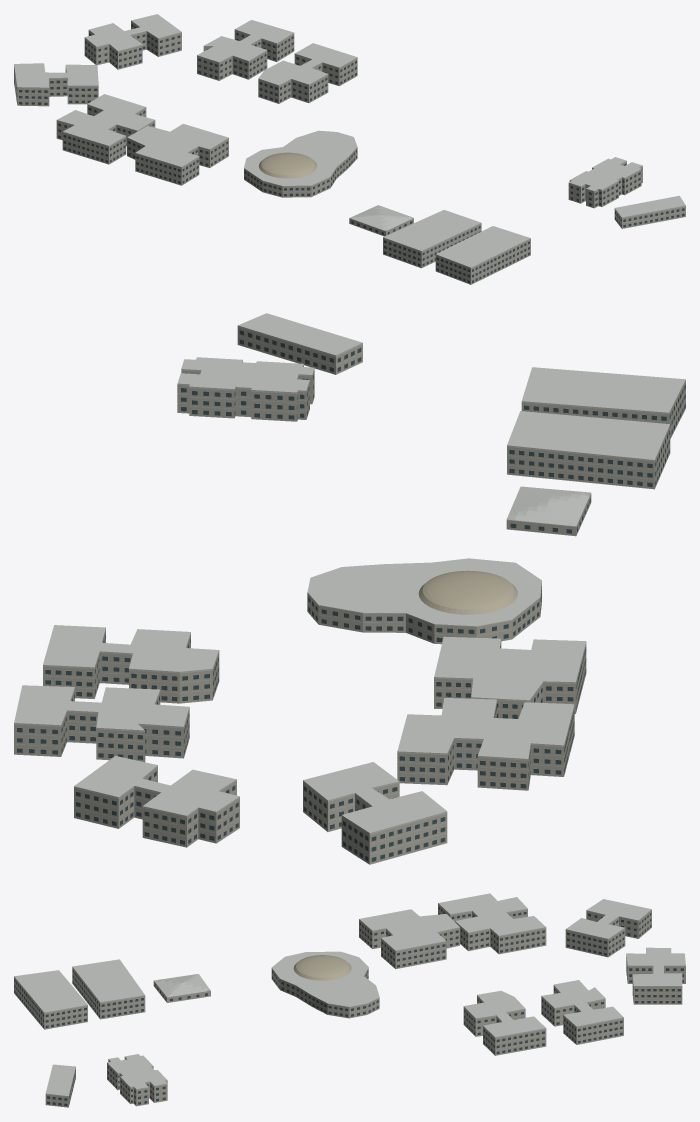
The model's file is UMPSA-Pekan-residential.glb.
The picture shows the model from 3 angles, top to bottom: view 1: azimuth 30°, elevation 25°; view 2: azimuth 150°, elevation 25°; view 3: azimuth 270°, elevation 25°; orthographic projection. The views are drawn at different scales.
Parts seen in each view (by area): view 1: Pusat Aktiviti Pelajar (PAP) UMPSA Pekan - campus exterior, Kolej Kediaman 5 - southwest courtyard block - campus exteri, Kolej Kediaman 5 - west courtyard block - campus exterior, Kolej Kediaman 5 - east courtyard block - campus exterior, Block I KK5 UMPSA Pekan - campus exterior, Block H KK5 UMPSA Pekan - campus exterior, Block B KK5 UMPSA Pekan - campus exterior, Block C KK5 UMPSA Pekan - campus exterior, Kolej Kediaman 5 - northwest courtyard block - campus exteri, Block A KK5 UMPSA Pekan - campus exterior, Kolej Kediaman 5 - southeast residential wing - campus exter, Kolej Kediaman 5 cafeteria - campus exterior; view 2: Pusat Aktiviti Pelajar (PAP) UMPSA Pekan - campus exterior, Kolej Kediaman 5 - west courtyard block - campus exterior, Block I KK5 UMPSA Pekan - campus exterior, Block H KK5 UMPSA Pekan - campus exterior, Block C KK5 UMPSA Pekan - campus exterior, Kolej Kediaman 5 - east courtyard block - campus exterior, Kolej Kediaman 5 - northwest courtyard block - campus exteri, Kolej Kediaman 5 - southwest courtyard block - campus exteri, Block A KK5 UMPSA Pekan - campus exterior, Block B KK5 UMPSA Pekan - campus exterior, Kolej Kediaman 5 - southeast residential wing - campus exter, Kolej Kediaman 5 cafeteria - campus exterior; view 3: Pusat Aktiviti Pelajar (PAP) UMPSA Pekan - campus exterior, Kolej Kediaman 5 - west courtyard block - campus exterior, Kolej Kediaman 5 - southwest courtyard block - campus exteri, Kolej Kediaman 5 - east courtyard block - campus exterior, Block I KK5 UMPSA Pekan - campus exterior, Kolej Kediaman 5 - northwest courtyard block - campus exteri, Block C KK5 UMPSA Pekan - campus exterior, Block B KK5 UMPSA Pekan - campus exterior, Block H KK5 UMPSA Pekan - campus exterior, Block A KK5 UMPSA Pekan - campus exterior, Kolej Kediaman 5 cafeteria - campus exterior, Kolej Kediaman 5 - southeast residential wing - campus exter.
Part boxes in pixels (x1,y1,x2,y2): Pusat Aktiviti Pelajar (PAP) UMPSA Pekan - campus exterior: (244, 130, 357, 197); Kolej Kediaman 5 - southwest courtyard block - campus exteri: (127, 124, 228, 185); Kolej Kediaman 5 - west courtyard block - campus exterior: (56, 94, 155, 164); Kolej Kediaman 5 - east courtyard block - campus exterior: (258, 43, 357, 103); Block I KK5 UMPSA Pekan - campus exterior: (197, 20, 294, 80); Block H KK5 UMPSA Pekan - campus exterior: (84, 14, 181, 69); Block B KK5 UMPSA Pekan - campus exterior: (435, 226, 530, 284); Block C KK5 UMPSA Pekan - campus exterior: (383, 210, 481, 268); Kolej Kediaman 5 - northwest courtyard block - campus exteri: (14, 63, 98, 106); Block A KK5 UMPSA Pekan - campus exterior: (568, 157, 642, 208); Kolej Kediaman 5 - southeast residential wing - campus exter: (614, 195, 685, 228); Kolej Kediaman 5 cafeteria - campus exterior: (349, 205, 413, 236); Pusat Aktiviti Pelajar (PAP) UMPSA Pekan - campus exterior: (307, 558, 541, 644); Kolej Kediaman 5 - west courtyard block - campus exterior: (397, 698, 574, 790); Block I KK5 UMPSA Pekan - campus exterior: (14, 685, 189, 762); Block H KK5 UMPSA Pekan - campus exterior: (74, 756, 239, 847); Block C KK5 UMPSA Pekan - campus exterior: (507, 411, 670, 489); Kolej Kediaman 5 - east courtyard block - campus exterior: (43, 625, 219, 703); Kolej Kediaman 5 - northwest courtyard block - campus exteri: (303, 762, 447, 864); Kolej Kediaman 5 - southwest courtyard block - campus exteri: (434, 636, 586, 718); Block A KK5 UMPSA Pekan - campus exterior: (177, 357, 314, 421); Block B KK5 UMPSA Pekan - campus exterior: (521, 367, 685, 438); Kolej Kediaman 5 - southeast residential wing - campus exter: (237, 313, 362, 374); Kolej Kediaman 5 cafeteria - campus exterior: (506, 486, 591, 536); Pusat Aktiviti Pelajar (PAP) UMPSA Pekan - campus exterior: (271, 951, 379, 1018); Kolej Kediaman 5 - west courtyard block - campus exterior: (438, 893, 546, 954); Kolej Kediaman 5 - southwest courtyard block - campus exteri: (359, 909, 459, 969); Kolej Kediaman 5 - east courtyard block - campus exterior: (463, 990, 546, 1055); Block I KK5 UMPSA Pekan - campus exterior: (541, 980, 623, 1044); Kolej Kediaman 5 - northwest courtyard block - campus exteri: (565, 899, 651, 957); Block C KK5 UMPSA Pekan - campus exterior: (72, 959, 145, 1019); Block B KK5 UMPSA Pekan - campus exterior: (14, 970, 87, 1029); Block H KK5 UMPSA Pekan - campus exterior: (626, 947, 685, 1004); Block A KK5 UMPSA Pekan - campus exterior: (107, 1054, 167, 1106); Kolej Kediaman 5 cafeteria - campus exterior: (153, 974, 210, 1002); Kolej Kediaman 5 - southeast residential wing - campus exter: (45, 1064, 75, 1107).
Bounding box in the file's own units: 294 × 13 × 427.
